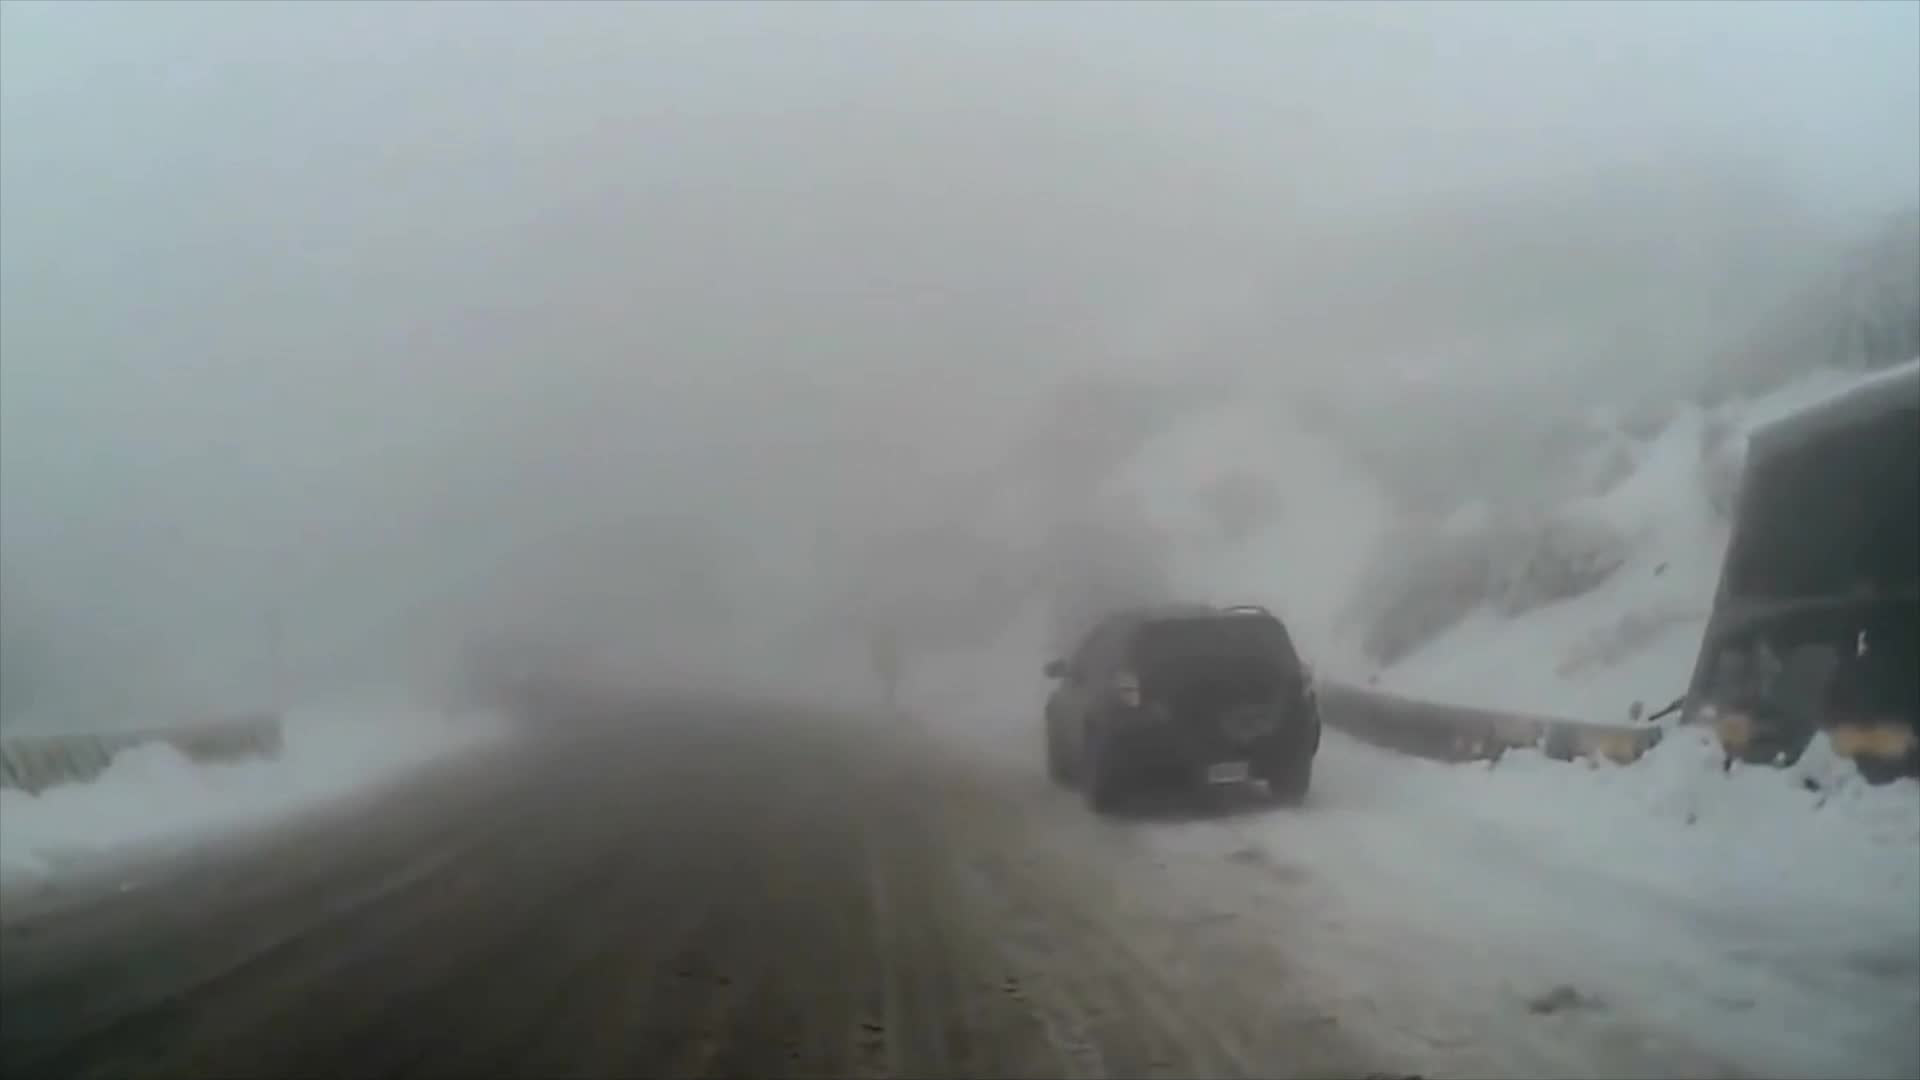vehicle: (1040, 601, 1327, 818)
